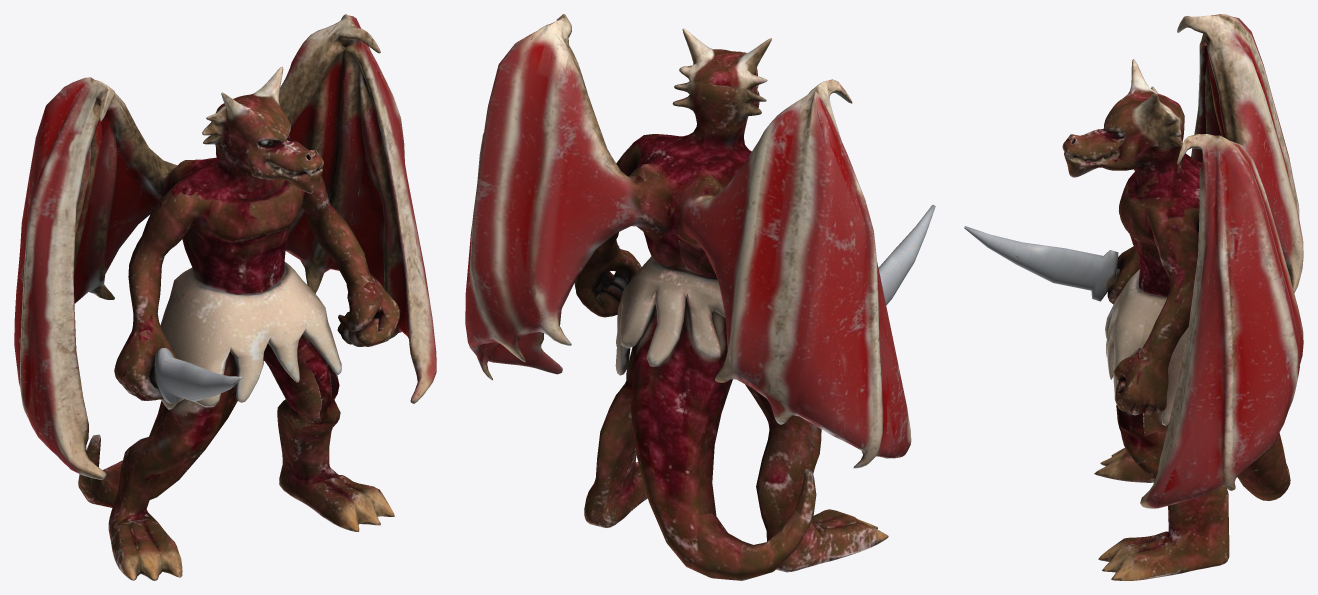
Rendered from MZ4250 - Kobold Wing.glb.
The picture shows the model from 3 angles, left to right: view 1: azimuth 30°, elevation 25°; view 2: azimuth 150°, elevation 25°; view 3: azimuth 270°, elevation 25°; orthographic projection. The views are drawn at different scales.
Parts seen in each view (by area): view 1: default; view 2: default; view 3: default.
Boxes of the visible parts, x1=… form: default: x1=14, y1=14, x2=436, y2=580; default: x1=465, y1=14, x2=935, y2=580; default: x1=964, y1=14, x2=1303, y2=580.
Bounding box in the file's own units: 0.7345 × 0.8307 × 0.5699.
1 material, 1 textured.
